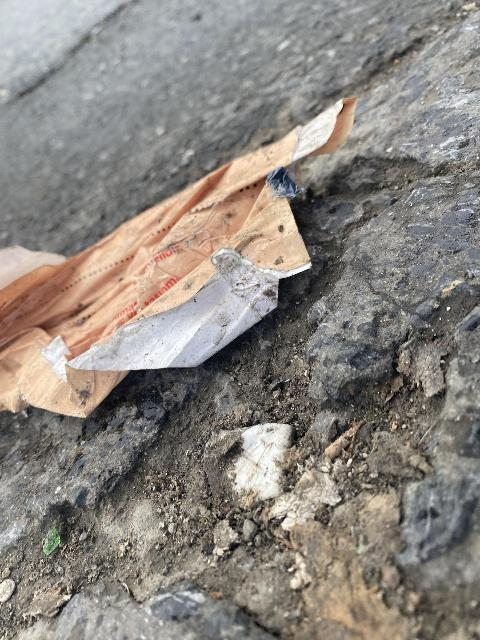Kagit: (0, 83, 375, 438)
